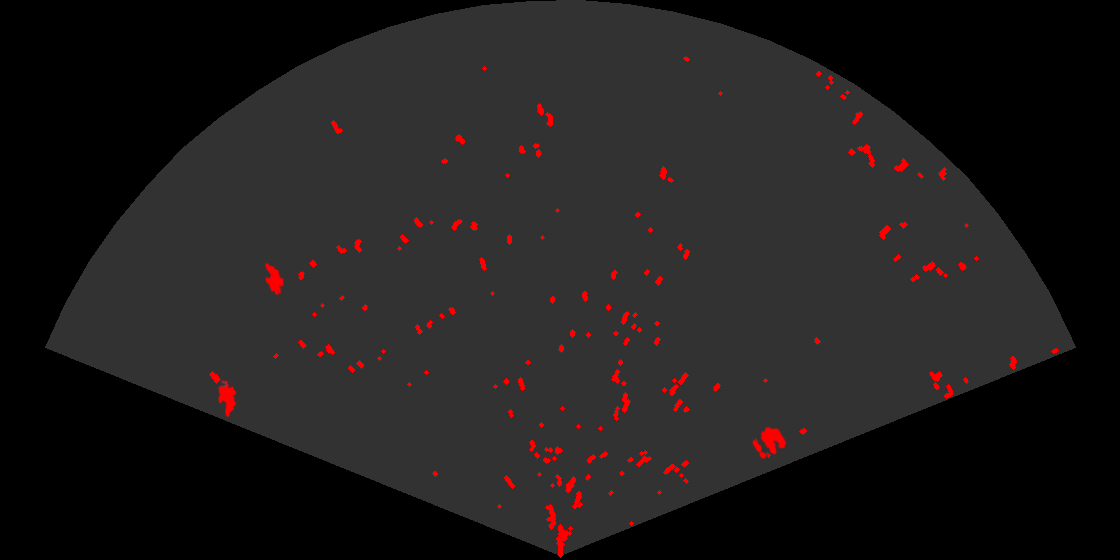AUV: (216, 378, 237, 419), (263, 261, 286, 297)
ball: (750, 425, 788, 461)
